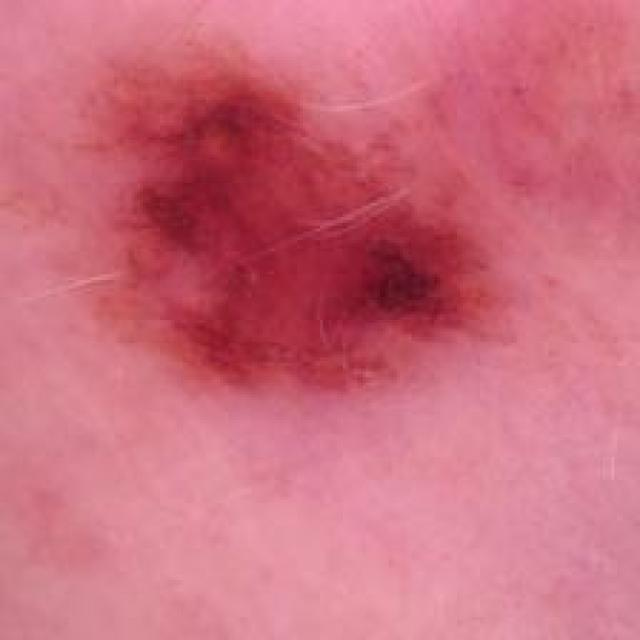Cancer: (70, 62, 468, 400)
